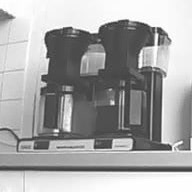not empty coffee: (89, 77, 151, 140)
